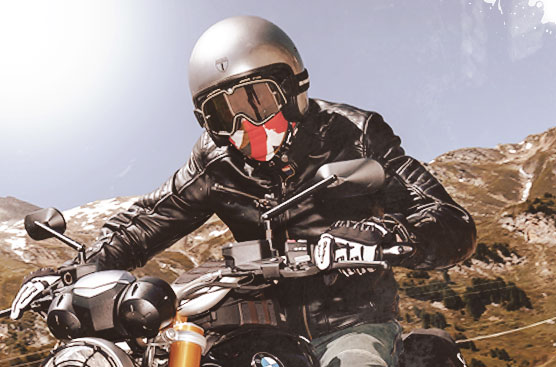with_helmet: (186, 15, 310, 141)
